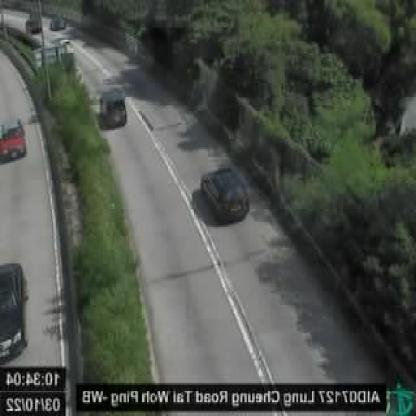Car: (201, 168, 251, 217), (102, 86, 128, 126)
